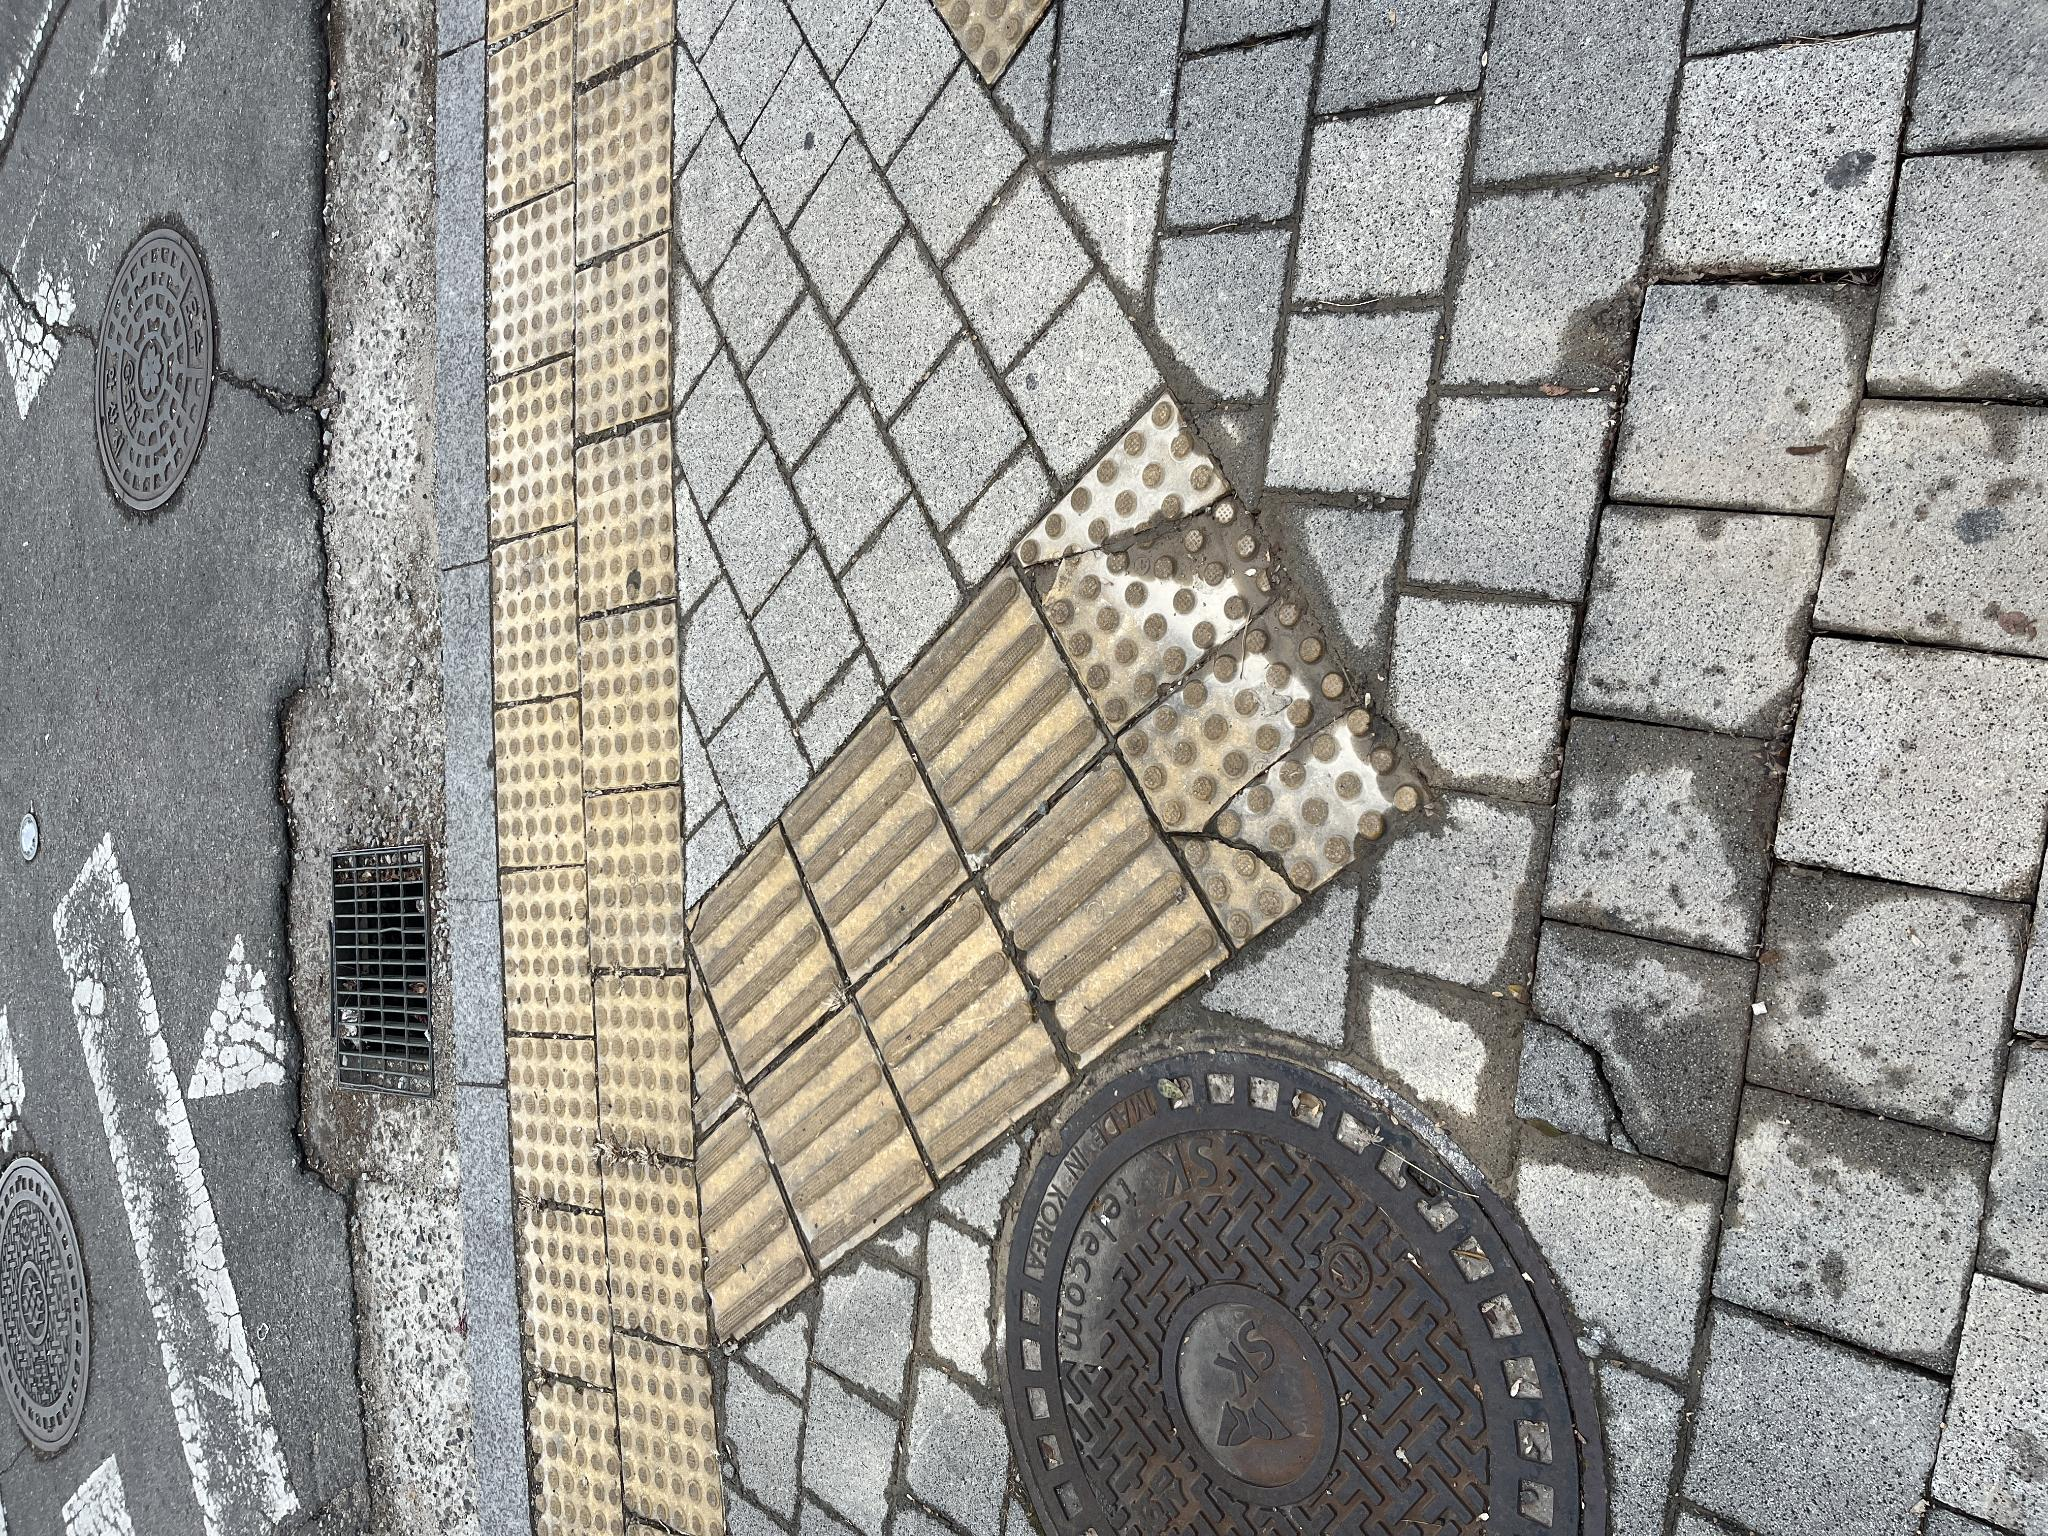Stop block broken: (595, 1117, 947, 1428), (803, 1016, 1142, 1286)
Stop block normal: (187, 603, 382, 705), (377, 594, 568, 691)
Straight block normal: (472, 978, 780, 1223), (674, 892, 971, 1104), (360, 858, 643, 1068), (556, 783, 827, 962)
